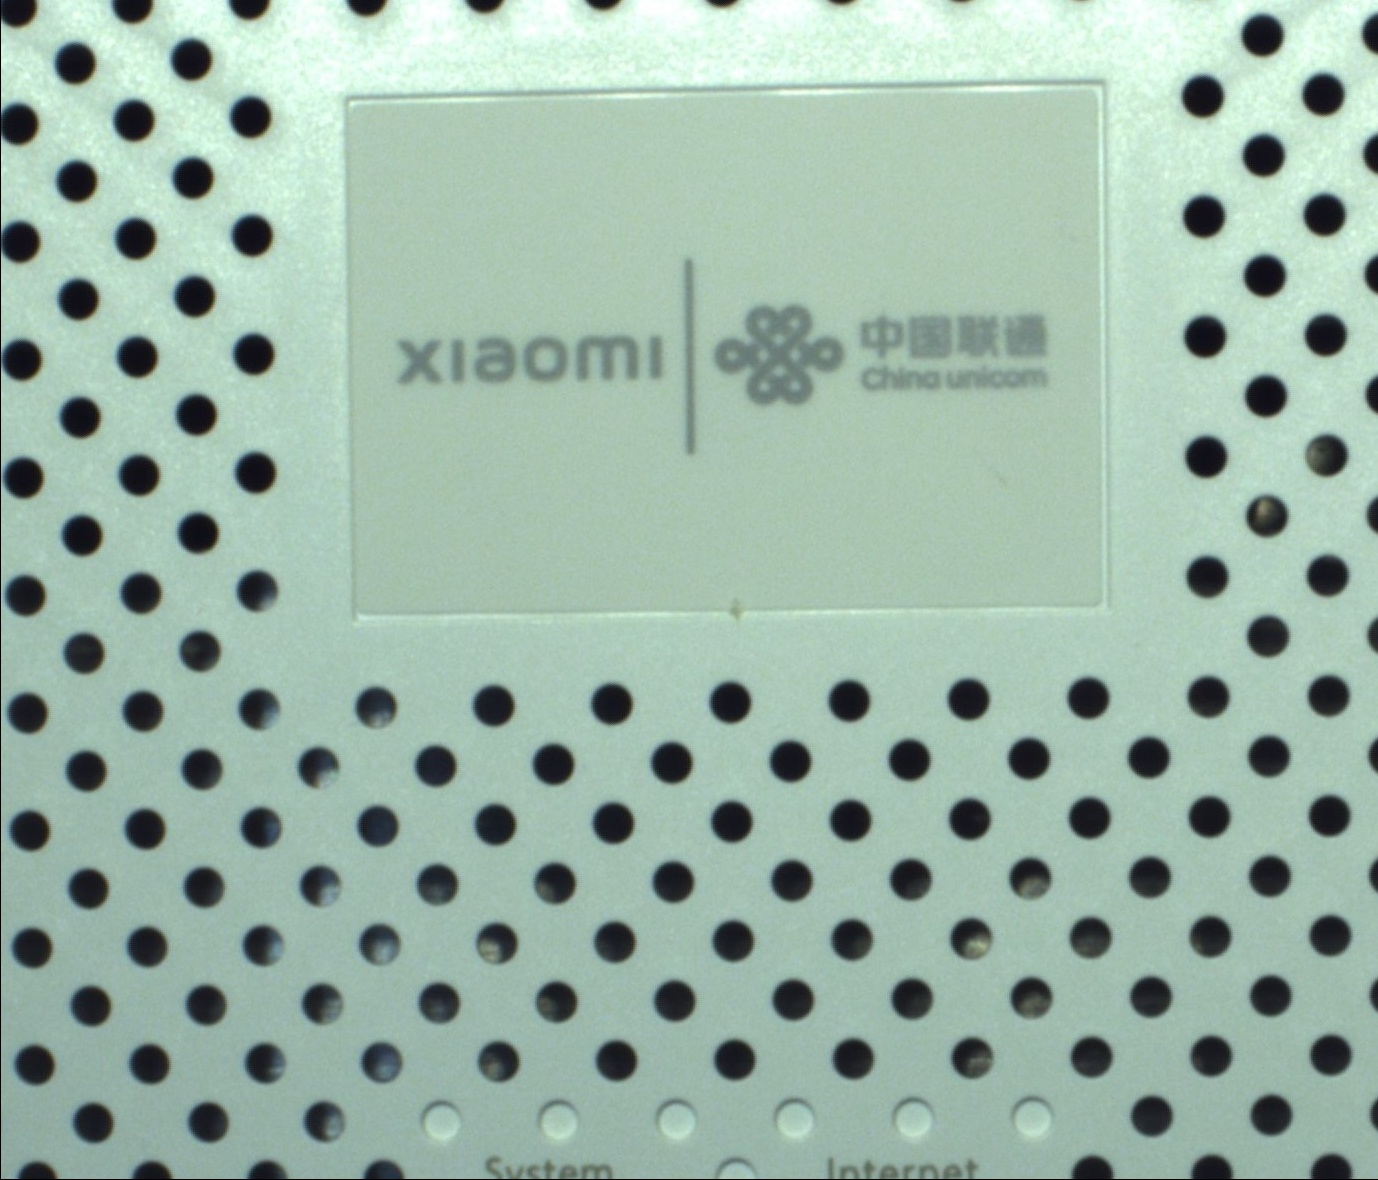MAC_NewUnicom: (397, 258, 1060, 450)
